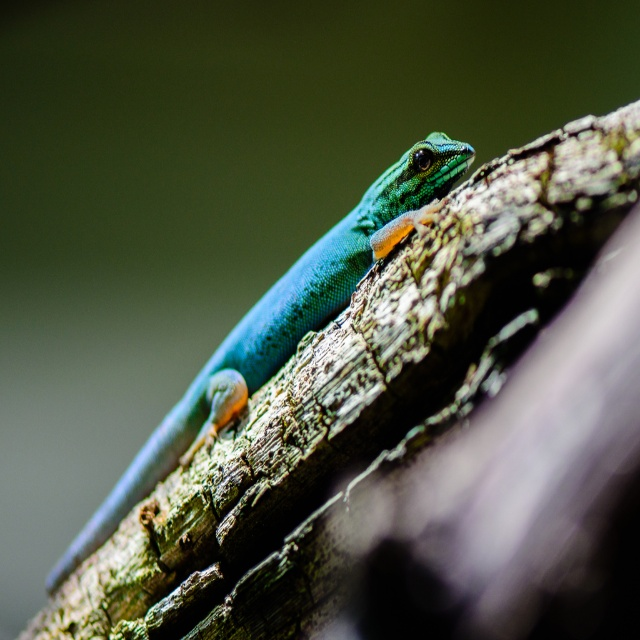Lizard: (44, 126, 474, 592)
